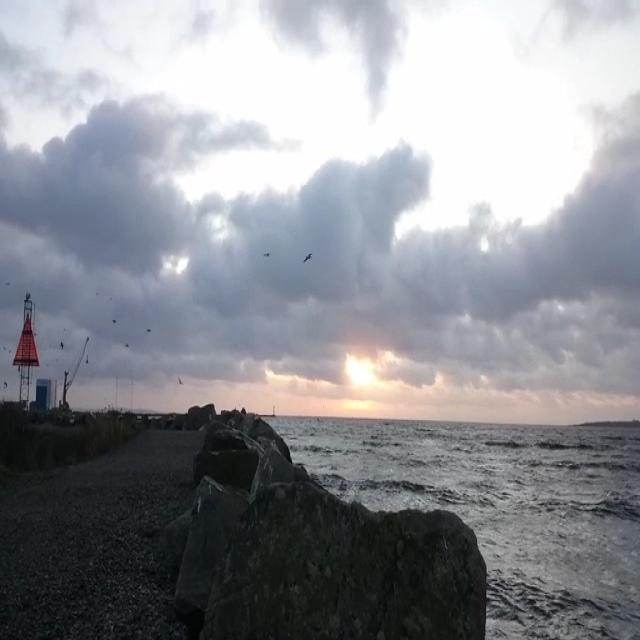bird: (296, 248, 316, 268), (56, 335, 68, 351), (121, 336, 133, 350), (175, 373, 186, 385), (263, 248, 272, 260), (111, 315, 120, 327), (145, 325, 153, 336)
